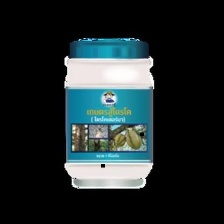insecticide: (61, 33, 158, 193)
